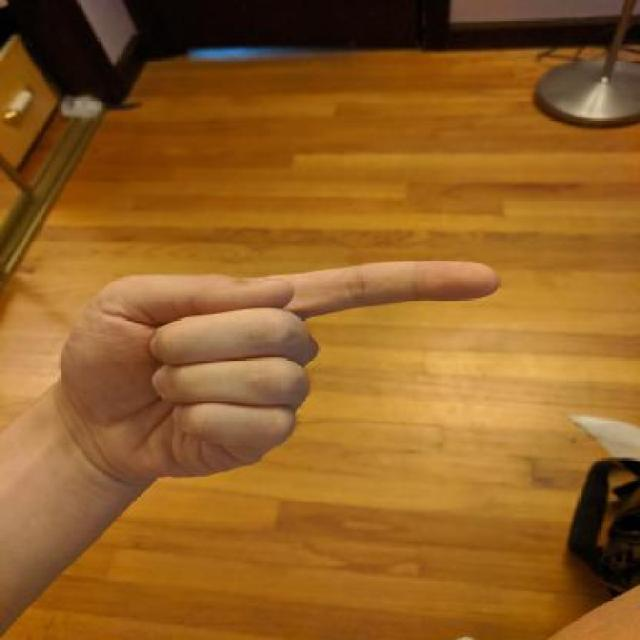G: (46, 253, 508, 497)
